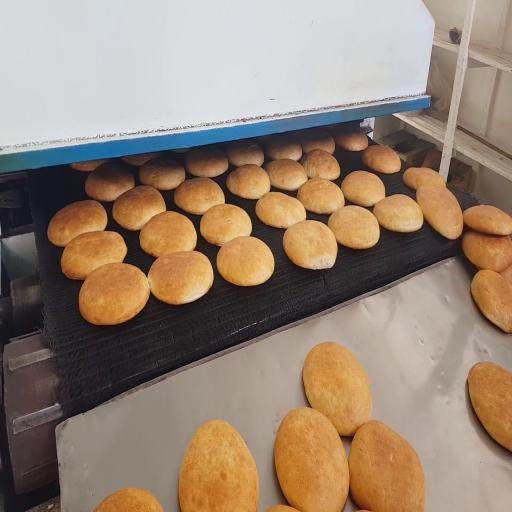bread: (275, 408, 349, 511), (179, 420, 258, 511), (349, 421, 425, 511), (303, 342, 371, 436), (79, 263, 149, 325), (468, 362, 511, 451), (148, 251, 213, 305), (61, 231, 127, 279), (217, 237, 274, 286), (48, 200, 107, 246), (283, 220, 337, 269), (416, 183, 463, 239), (140, 211, 196, 257), (471, 270, 511, 333), (112, 186, 166, 230), (328, 206, 379, 249), (200, 204, 251, 246), (462, 231, 511, 272), (85, 161, 134, 201), (373, 194, 423, 232), (256, 192, 306, 228), (174, 178, 224, 214), (298, 178, 344, 214), (341, 171, 385, 207), (139, 156, 185, 190), (95, 488, 163, 511), (227, 164, 270, 199), (464, 205, 511, 235), (265, 159, 307, 191), (185, 147, 228, 177), (301, 149, 340, 180), (362, 145, 401, 173), (403, 167, 445, 190), (227, 140, 264, 166), (266, 135, 302, 161), (300, 130, 335, 155), (334, 127, 368, 151), (122, 152, 163, 166), (70, 159, 108, 172), (500, 266, 511, 283), (266, 505, 297, 511), (172, 148, 189, 153)
